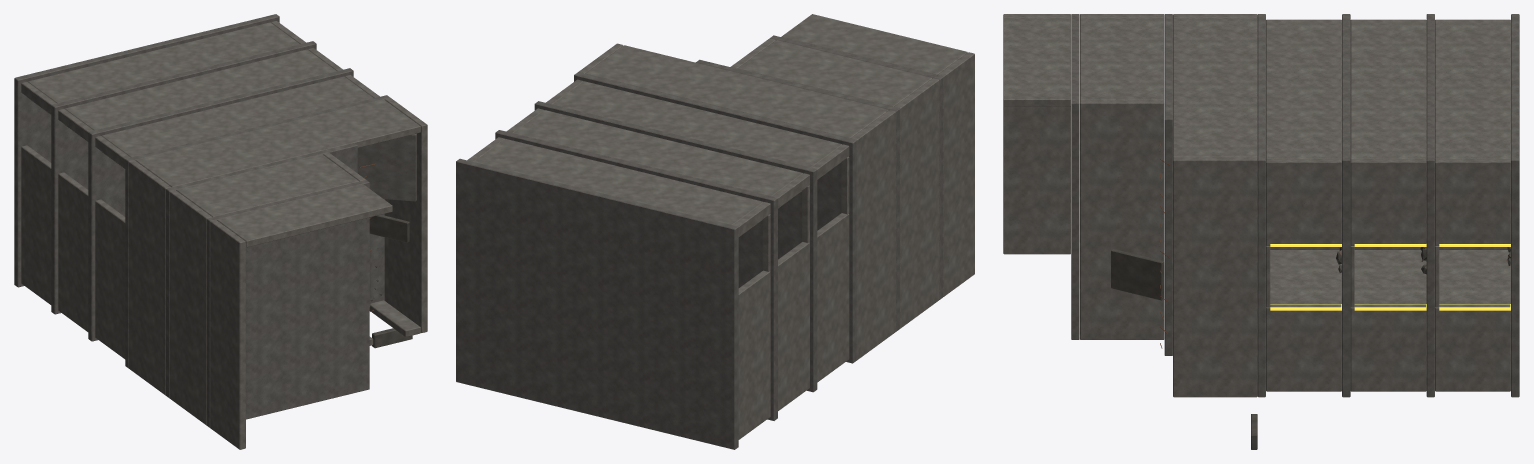
Rendered from blender_tower.glb.
3 views of the same model, side by side, from view 1: azimuth 30°, elevation 25°; view 2: azimuth 150°, elevation 25°; view 3: azimuth 270°, elevation 25° (orthographic). The views are drawn at different scales.
Visible parts, largest first — view 1: level_l2_static, level_g_static, level_b1_static, level_b2_static, level_b3_static, level_l1_static, b26, b25; view 2: level_b3_static, level_g_static, level_b1_static, level_b2_static, level_l1_static, level_l2_static; view 3: level_g_static, level_l1_static, level_b1_static, level_b2_static, level_b3_static, level_l2_static, level_b2_wall_s, level_b3_wall_s, level_b1_wall_s, b27.
Part boxes in pixels (x1=…): level_l2_static: x1=206, y1=180, x2=392, y2=449; level_g_static: x1=125, y1=95, x2=427, y2=395; level_b1_static: x1=88, y1=68, x2=379, y2=359; level_b2_static: x1=51, y1=41, x2=342, y2=331; level_b3_static: x1=14, y1=14, x2=305, y2=304; level_l1_static: x1=166, y1=143, x2=375, y2=425; b26: x1=369, y1=215, x2=409, y2=242; b25: x1=372, y1=328, x2=412, y2=348; level_b3_static: x1=456, y1=137, x2=770, y2=449; level_g_static: x1=574, y1=43, x2=895, y2=363; level_b1_static: x1=534, y1=79, x2=849, y2=392; level_b2_static: x1=495, y1=108, x2=809, y2=420; level_l1_static: x1=696, y1=38, x2=939, y2=331; level_l2_static: x1=770, y1=14, x2=974, y2=299; level_g_static: x1=1173, y1=14, x2=1265, y2=397; level_l1_static: x1=1080, y1=14, x2=1172, y2=355; level_b1_static: x1=1266, y1=14, x2=1350, y2=397; level_b2_static: x1=1350, y1=14, x2=1434, y2=397; level_b3_static: x1=1435, y1=14, x2=1519, y2=397; level_l2_static: x1=1003, y1=14, x2=1079, y2=339; level_b2_wall_s: x1=1354, y1=250, x2=1426, y2=303; level_b3_wall_s: x1=1439, y1=250, x2=1510, y2=303; level_b1_wall_s: x1=1270, y1=250, x2=1341, y2=303; b27: x1=1111, y1=249, x2=1164, y2=300.
Size of the model in its own units: 4.4 by 3.65 by 6.11.
5 materials, 3 textured.
